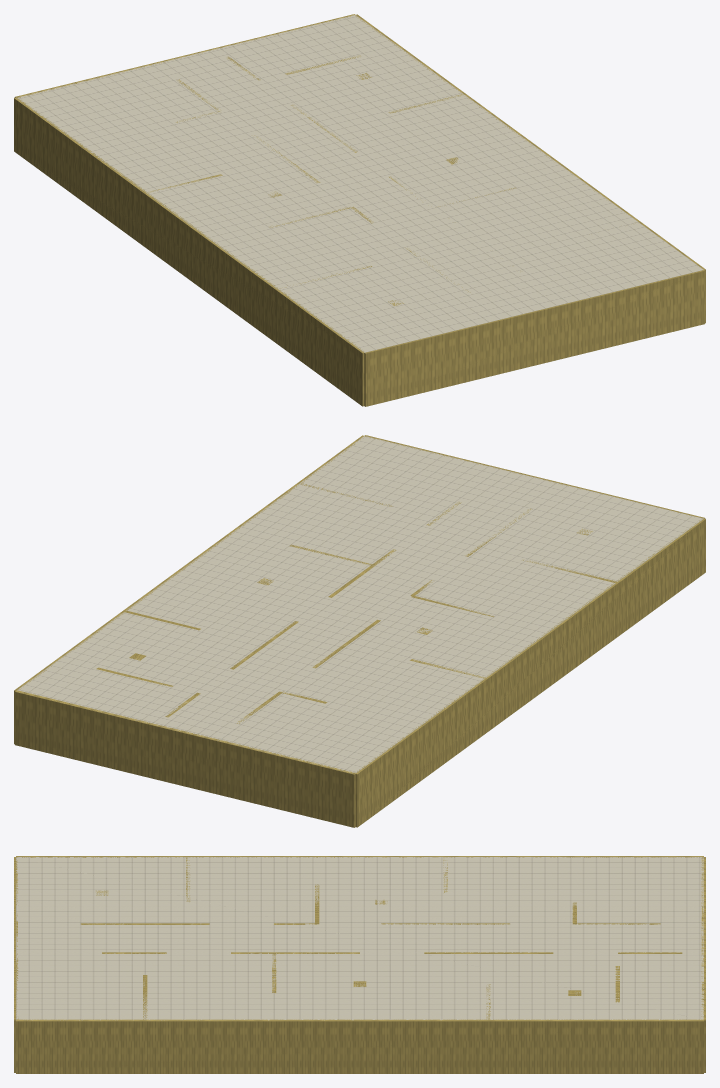
Rendered from backrooms.glb.
3 renders of one model, top to bottom at view 1: azimuth 30°, elevation 25°; view 2: azimuth 150°, elevation 25°; view 3: azimuth 270°, elevation 25°, orthographic.
Visible parts, largest first — view 1: ceiling, walls; view 2: ceiling, walls; view 3: ceiling, walls.
Part boxes in pixels (left/top/right/bottom): ceiling: left=17, top=15, right=703, bottom=352; walls: left=14, top=14, right=705, bottom=406; ceiling: left=17, top=436, right=703, bottom=773; walls: left=14, top=435, right=705, bottom=827; ceiling: left=16, top=857, right=703, bottom=1020; walls: left=14, top=856, right=705, bottom=1073.
Bounding box in the file's own units: 18.2 × 3.09 × 32.2.
13 materials, 4 textured.
